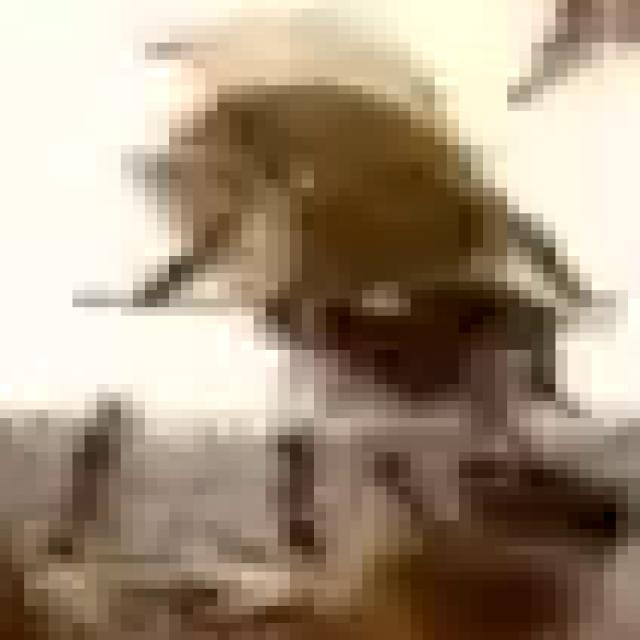honeybee: (101, 39, 640, 498)
